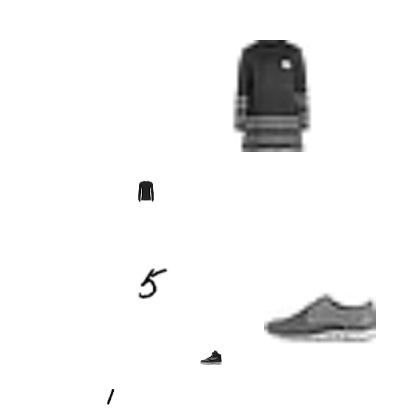3: (234, 112, 290, 168)
6: (248, 330, 332, 414)
7: (101, 300, 129, 328)
9: (170, 167, 254, 251)
Coat: (265, 6, 377, 118), (114, 108, 170, 164)
Sneaker: (56, 31, 98, 73)
Trouser: (355, 317, 411, 373)
